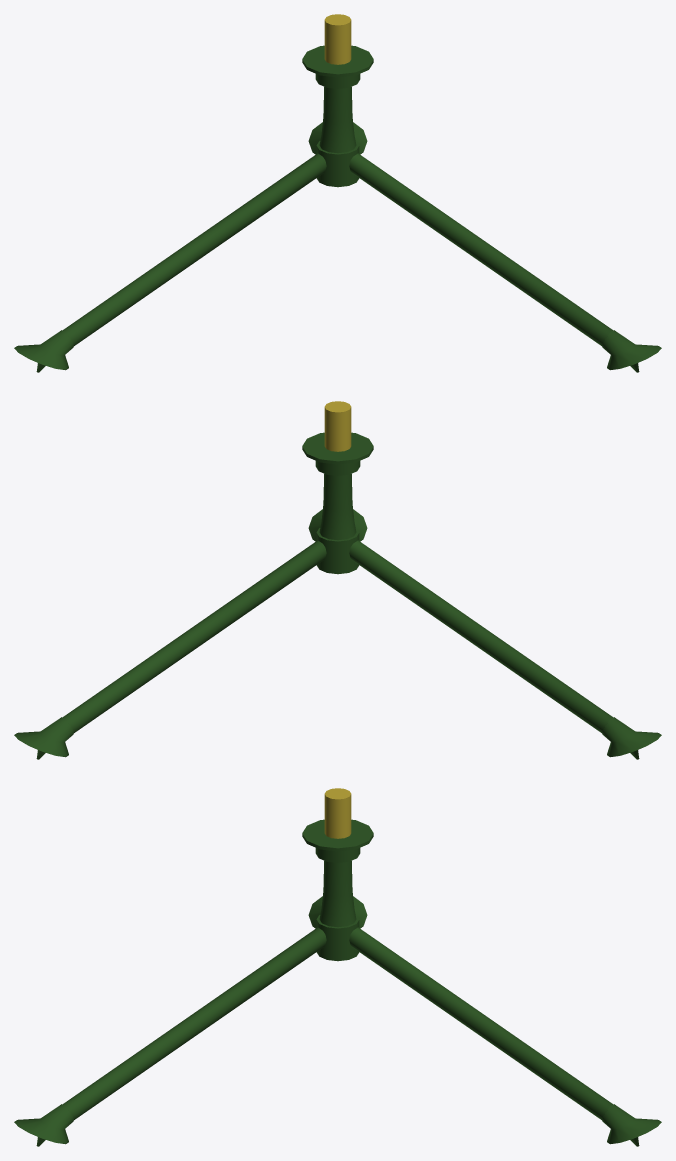
File: vickersGunMount.fbx
The picture shows the model from 3 angles, top to bottom: view 1: azimuth 30°, elevation 25°; view 2: azimuth 150°, elevation 25°; view 3: azimuth 270°, elevation 25°; orthographic projection.
Visible parts, largest first — view 1: Cylinder.007, Cylinder.008, Cylinder.005, Cylinder.004, Cylinder.006; view 2: Cylinder.006, Cylinder.008, Cylinder.005, Cylinder.004, Cylinder.007; view 3: Cylinder.006, Cylinder.007, Cylinder.005, Cylinder.004, Cylinder.008.
Boxes of the visible parts, left/top/right/bottom form: Cylinder.007: left=349, top=153, right=661, bottom=372; Cylinder.008: left=14, top=153, right=326, bottom=372; Cylinder.005: left=302, top=45, right=373, bottom=187; Cylinder.004: left=324, top=14, right=351, bottom=64; Cylinder.006: left=308, top=122, right=367, bottom=154; Cylinder.006: left=14, top=540, right=326, bottom=759; Cylinder.008: left=349, top=540, right=661, bottom=759; Cylinder.005: left=302, top=432, right=373, bottom=574; Cylinder.004: left=324, top=401, right=351, bottom=451; Cylinder.007: left=308, top=509, right=367, bottom=541; Cylinder.006: left=349, top=927, right=661, bottom=1146; Cylinder.007: left=14, top=927, right=326, bottom=1146; Cylinder.005: left=302, top=819, right=373, bottom=961; Cylinder.004: left=324, top=788, right=351, bottom=838; Cylinder.008: left=308, top=896, right=367, bottom=928.
Bounding box in the file's own units: 97.18 × 52.69 × 111.
